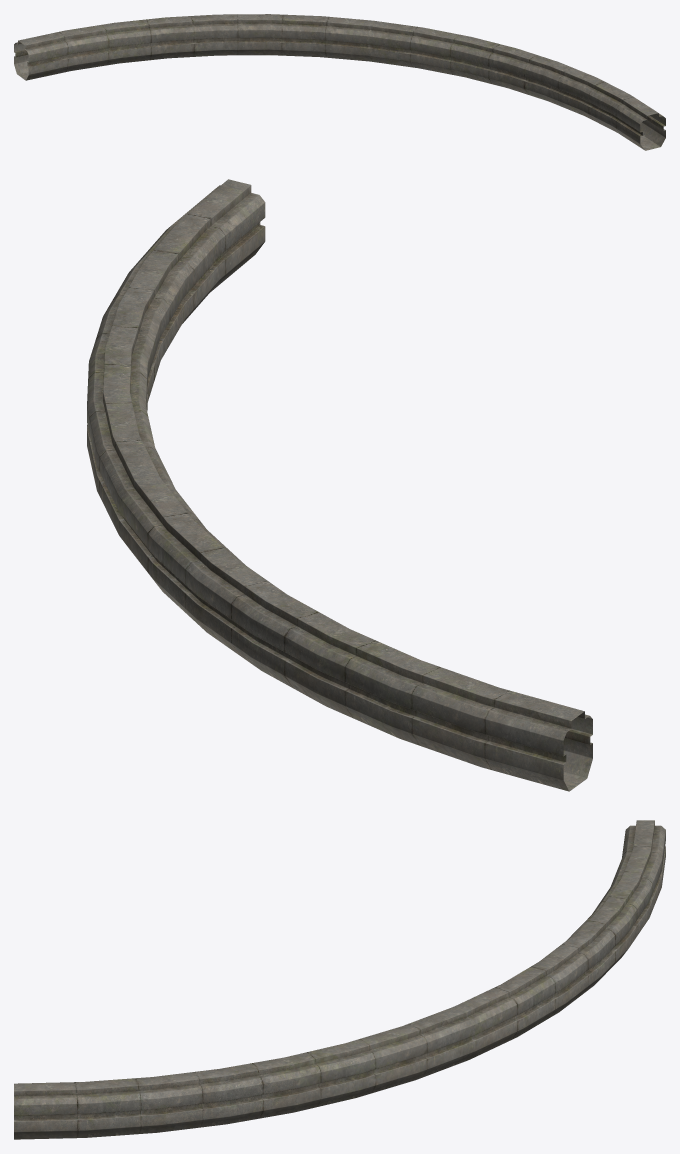
File: Railing_base07.fbx
The picture shows the model from 3 angles, top to bottom: view 1: azimuth 30°, elevation 25°; view 2: azimuth 150°, elevation 25°; view 3: azimuth 270°, elevation 25°; orthographic projection. The views are drawn at different scales.
Visible parts, largest first — view 1: Railing_base07; view 2: Railing_base07; view 3: Railing_base07.
Boxes of the visible parts, x1,y1,x2,y2 form: Railing_base07: (14,14,665,150); Railing_base07: (87,179,592,791); Railing_base07: (14,820,665,1139).
Bounding box in the file's own units: 516 × 41.2 × 516.
